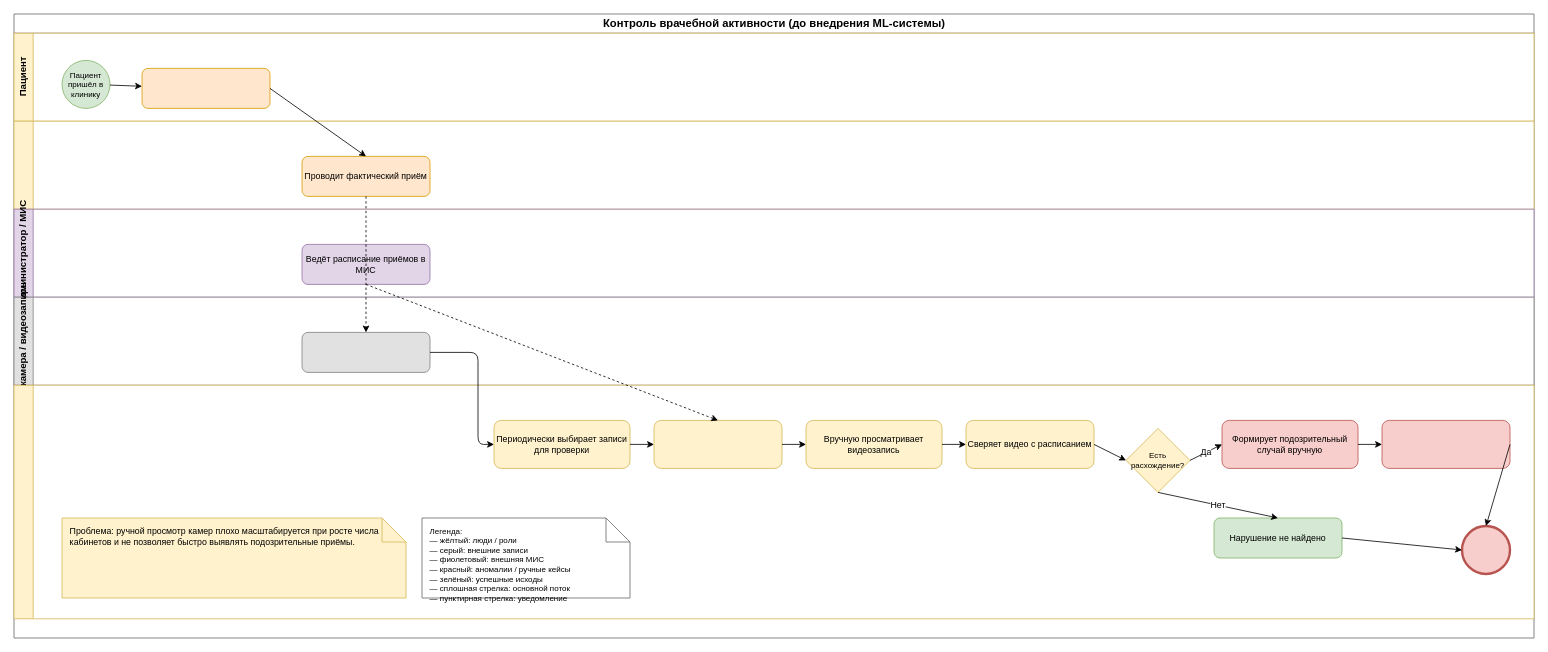
This 1548x652 diagram has some shape labels left out. The box of each missing label's shape, as (x1, y1, x2, y2) in pixels:
Врач: (13, 120, 1534, 209)
Записывает видео из кабинета: (301, 332, 430, 372)
Открывает расписание в МИС: (653, 420, 782, 468)
Передаёт случай на дальнейшую проверку: (1381, 420, 1510, 468)
Проверка завершена: (1460, 524, 1511, 575)
Проходит в стоматологический кабинет: (141, 68, 270, 108)
Служба безопасности: (13, 384, 1534, 619)
